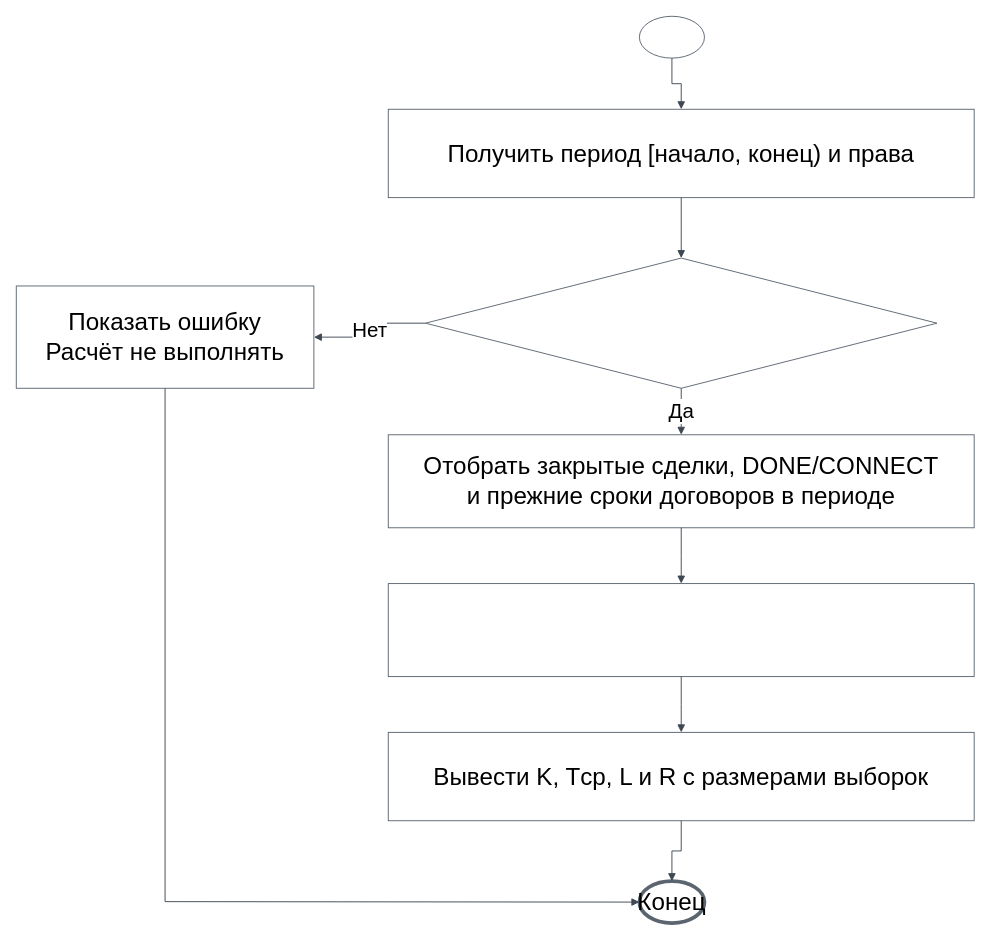
Image size: 990x941. Some labels were removed from this diagram. Each missing label, with the centre of its shape:
"Начало" goes at point 671,36.
"Период и исходные даты корректны?" goes at point 681,322.
"Рассчитать числители и знаменатели Каждый нулевой знаменатель → «нет данных»" goes at point 680,630.
